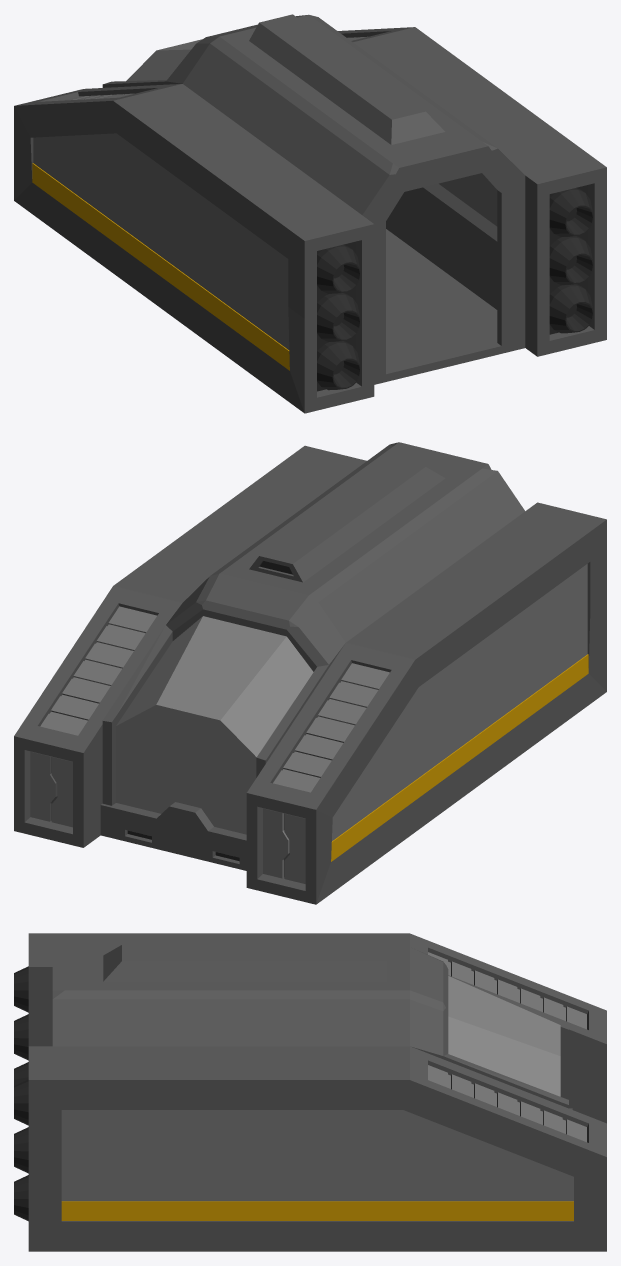
The model's file is CargoShip_NoDoor.fbx.
3 views of the same model, one above another, from view 1: azimuth 30°, elevation 25°; view 2: azimuth 150°, elevation 25°; view 3: azimuth 270°, elevation 25° (orthographic).
Parts seen in each view (by area): view 1: CargoShipOpen; view 2: CargoShipOpen; view 3: CargoShipOpen.
Boxes of the visible parts, x1,y1,x2,y2 form: CargoShipOpen: (14, 14, 606, 413); CargoShipOpen: (14, 442, 606, 904); CargoShipOpen: (14, 933, 606, 1251).
Size of the model in its own units: 300 by 215 by 513.
